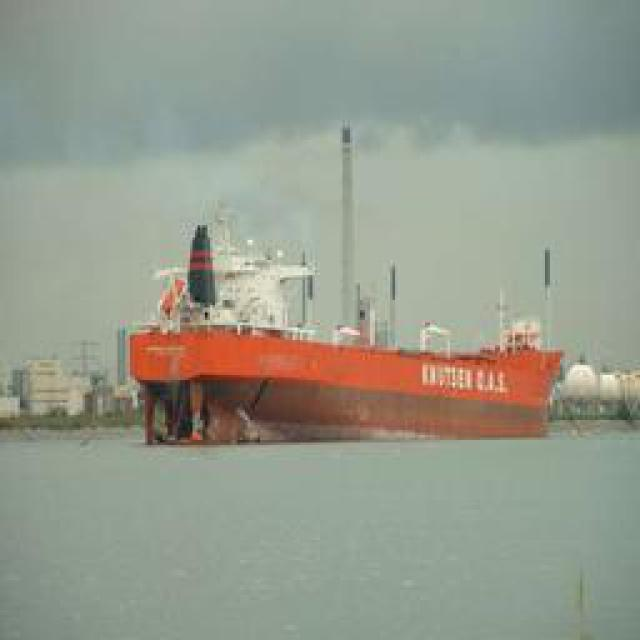Ship: (120, 311, 555, 449)
